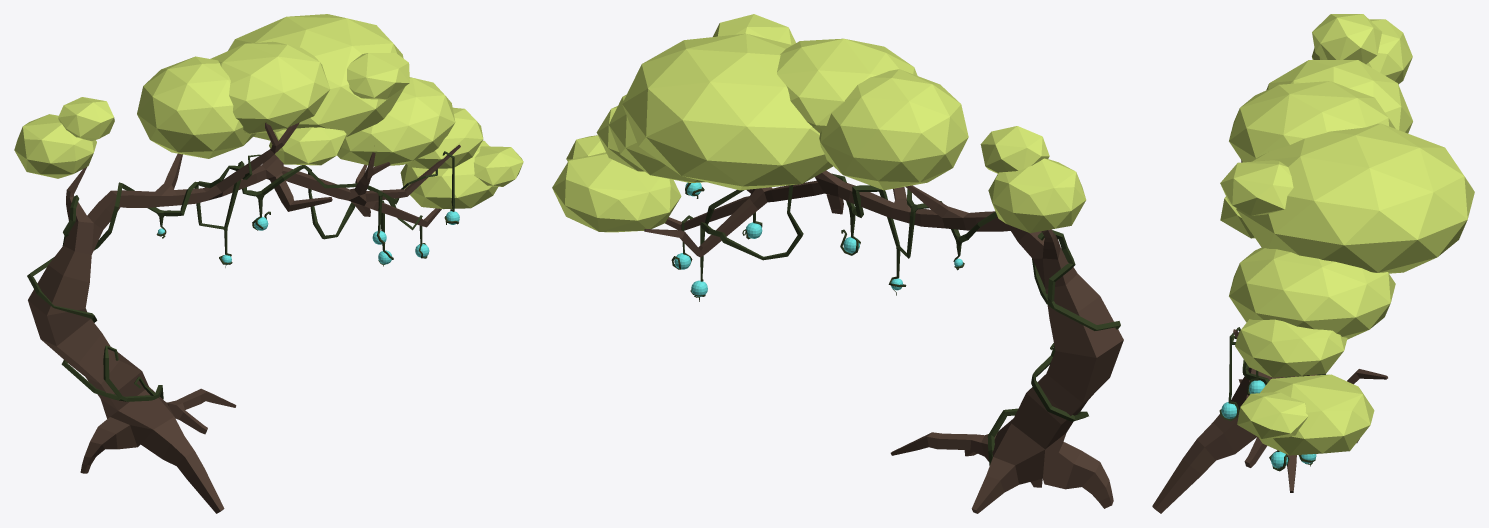
Rendered from OrbTree_JR.fbx.
The picture shows the model from 3 angles, left to right: view 1: azimuth 30°, elevation 25°; view 2: azimuth 150°, elevation 25°; view 3: azimuth 270°, elevation 25°; orthographic projection. The views are drawn at different scales.
Visible parts, largest first — view 1: Leaves_Bent; view 2: Leaves_Bent; view 3: Leaves_Bent.
Part boxes in pixels (x1,y1,x2,y2): Leaves_Bent: [14, 14, 523, 513]; Leaves_Bent: [552, 14, 1123, 513]; Leaves_Bent: [1152, 14, 1474, 513].
Size of the model in its own units: 383 by 302 by 182.
